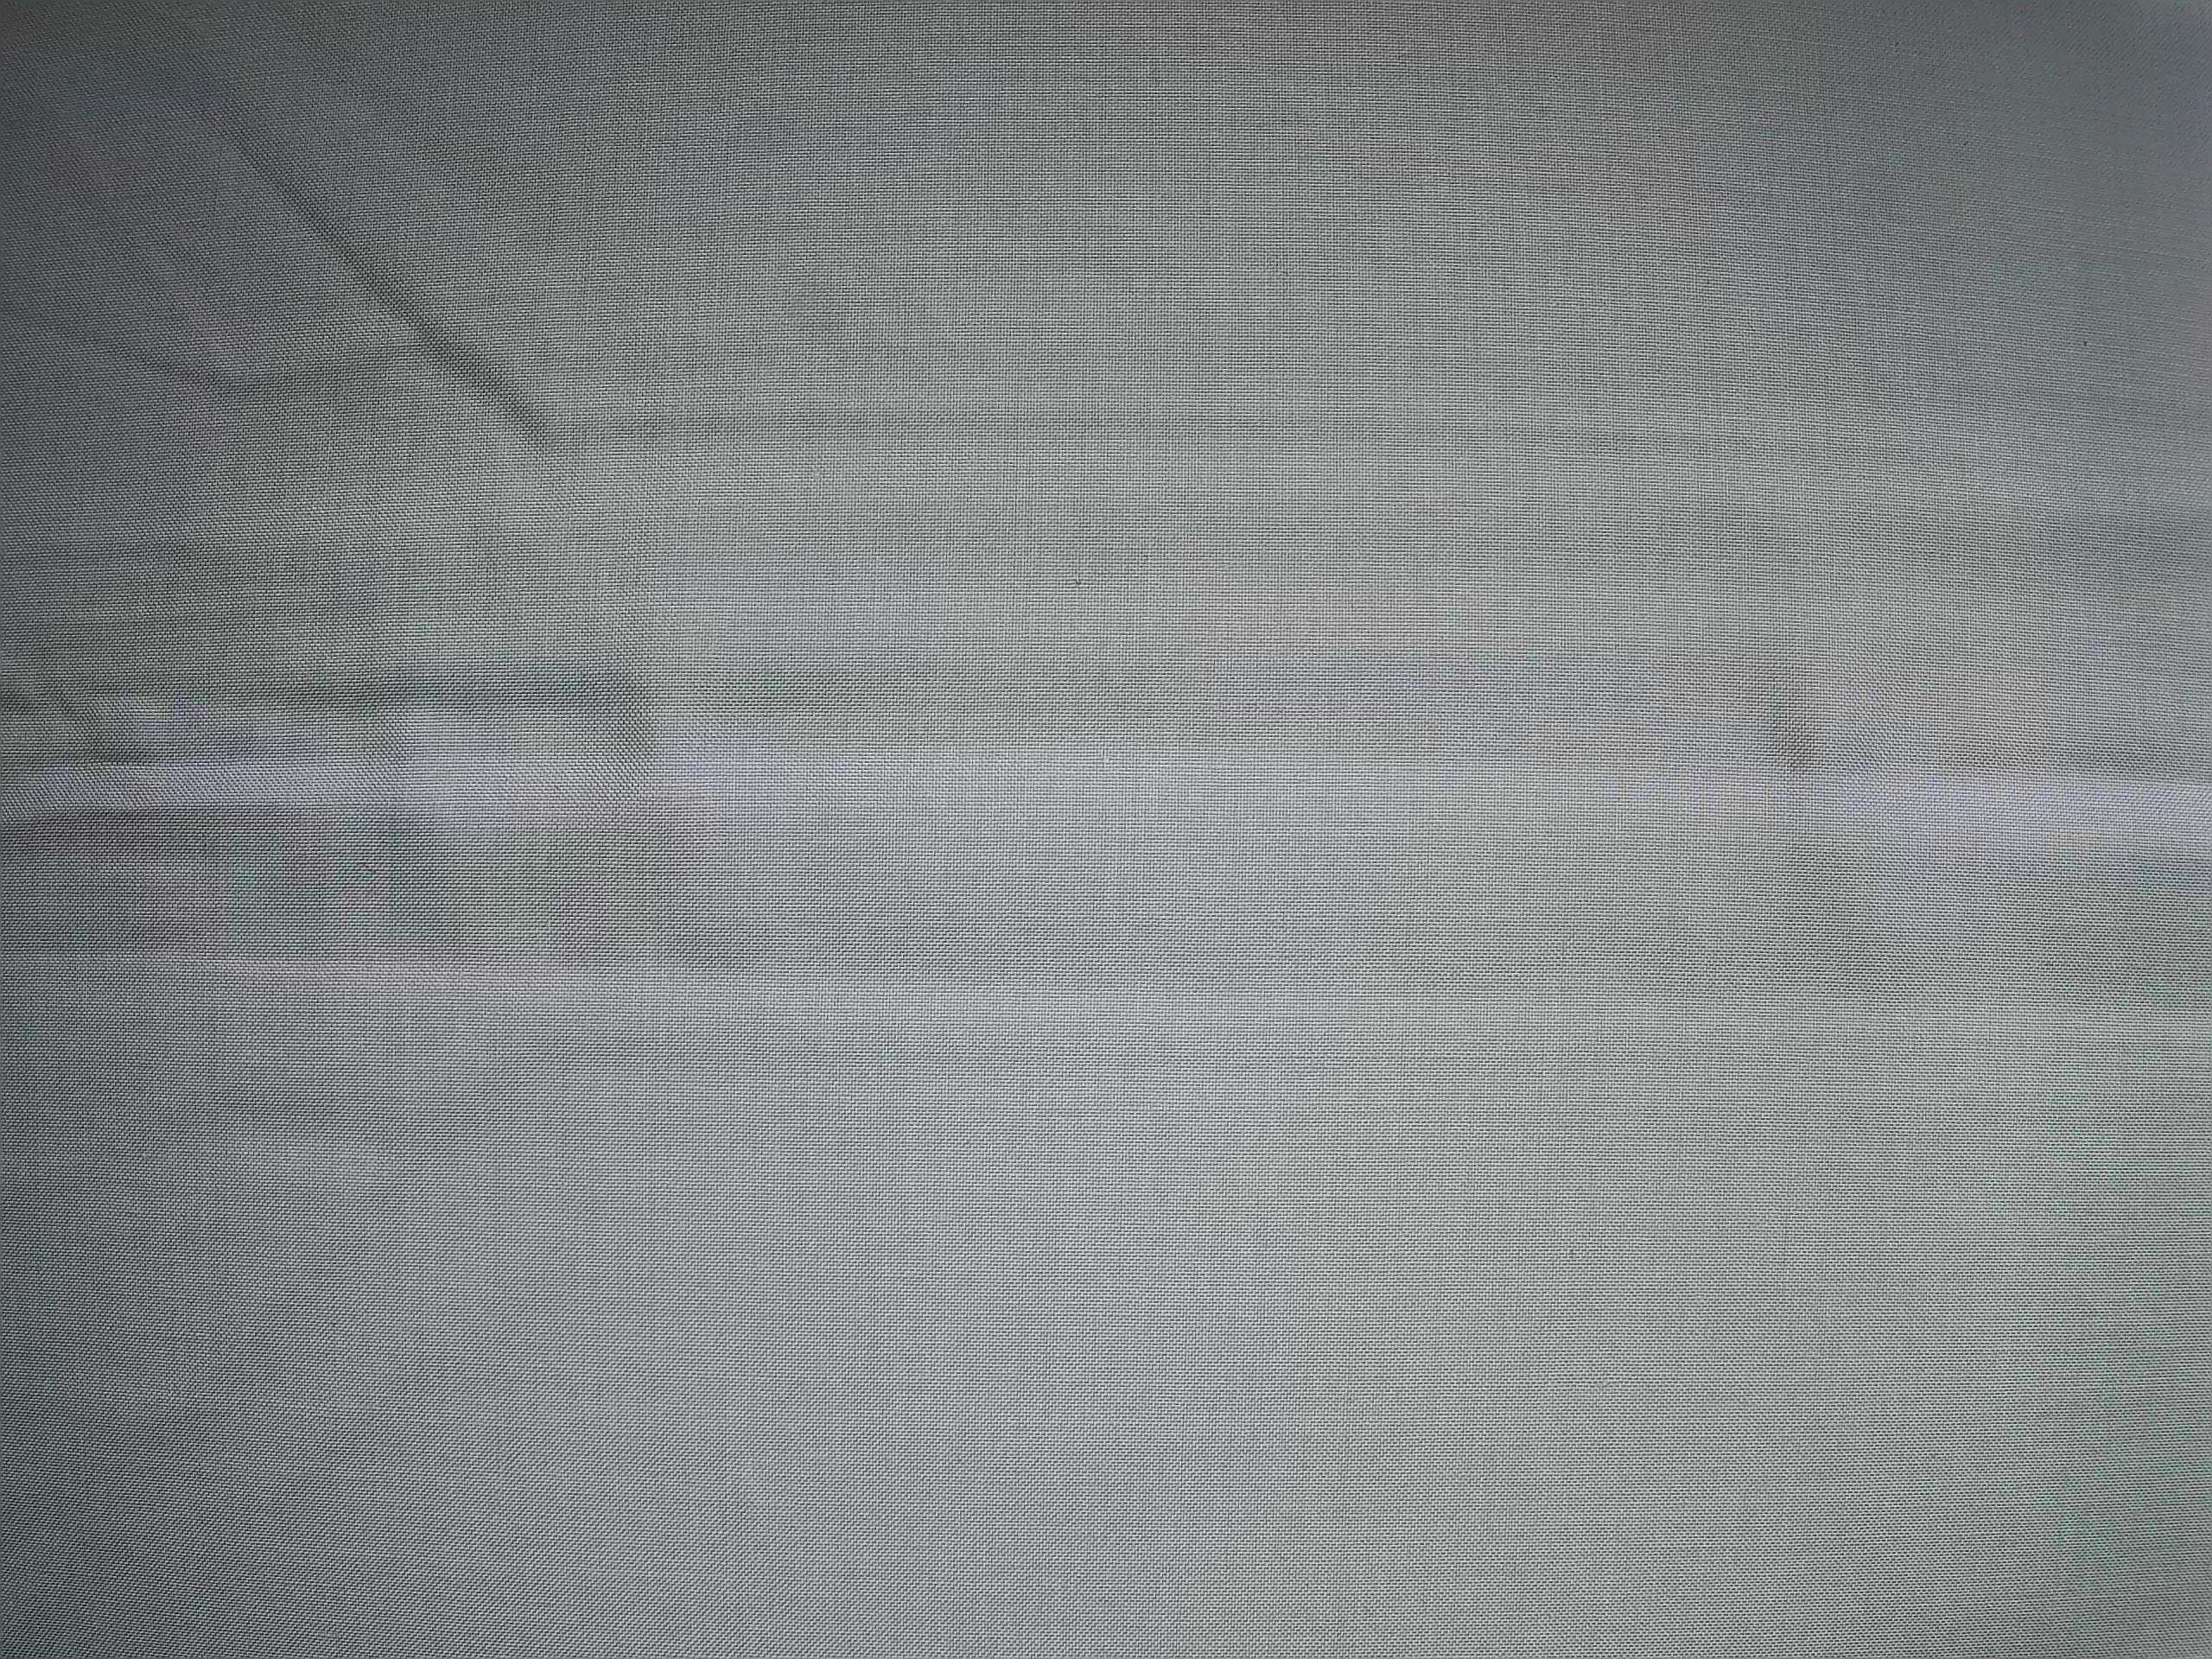others: (1050, 558, 1109, 601)
